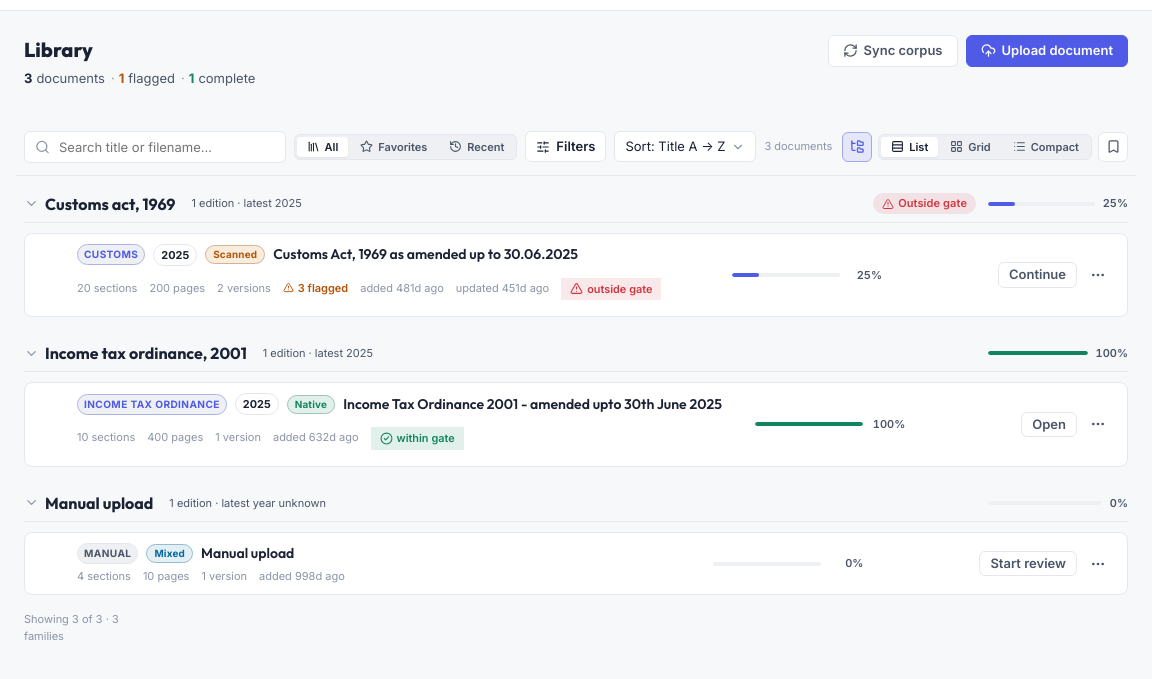
Test: Library page › filters via the panel: counts, URL, chips, clear-all
Expected: the text "3 documents" is shown, [764,138,832,155]
Click the button "Filters". click: (566, 147)
box: [525,131,606,162]
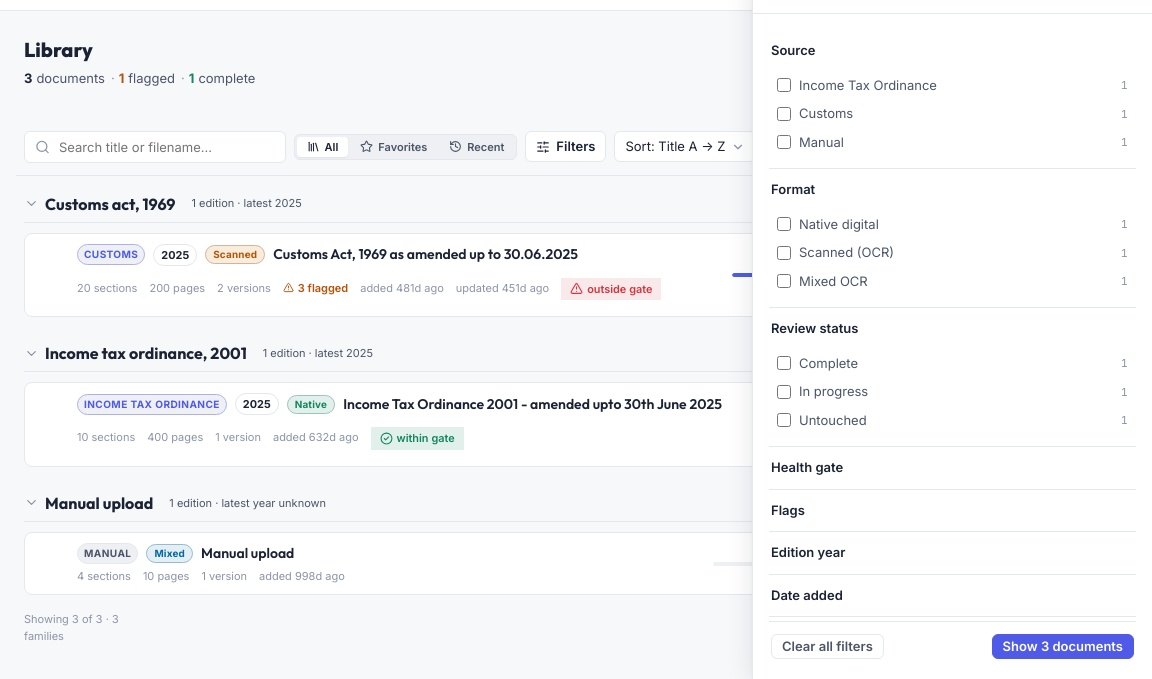
Click the checkbox labelled "Scanned (OCR) 1". click: (784, 253)
box: [777,246,791,260]
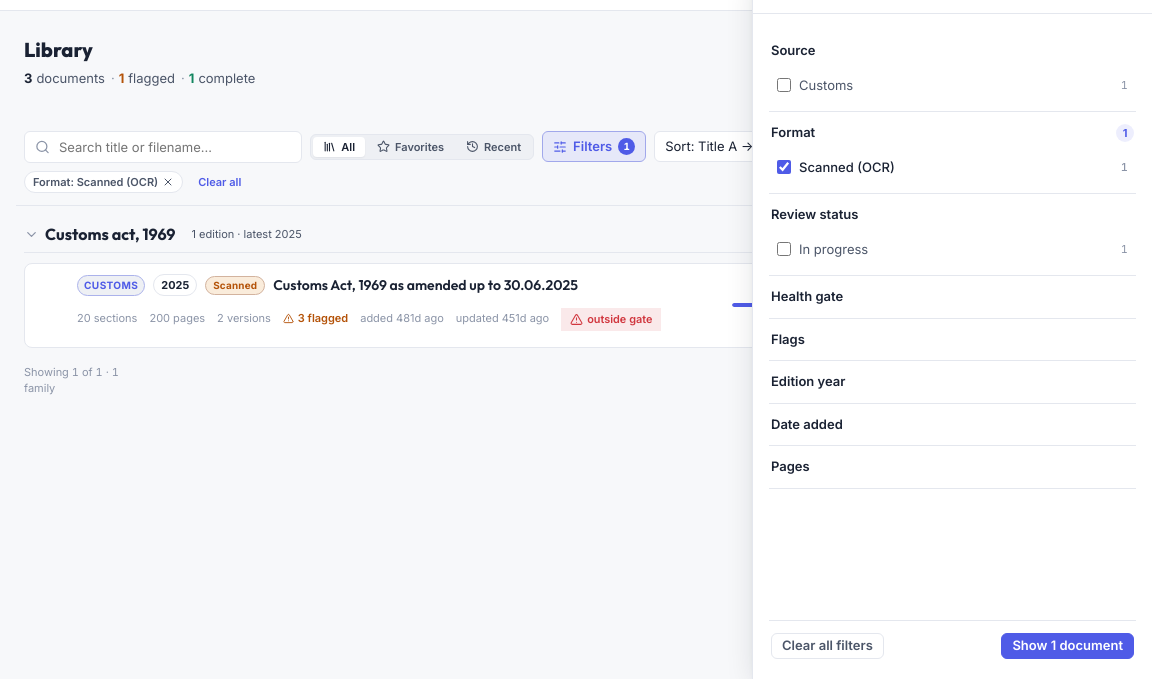
Expected: the text "1 of 3" is shown, [804,138,832,155]
Expected: the button "Format: Scanned (OCR)" is shown, [24,170,183,193]
Click the button "Clear all". click: (220, 182)
box: [189,170,250,193]
(page scrolled)
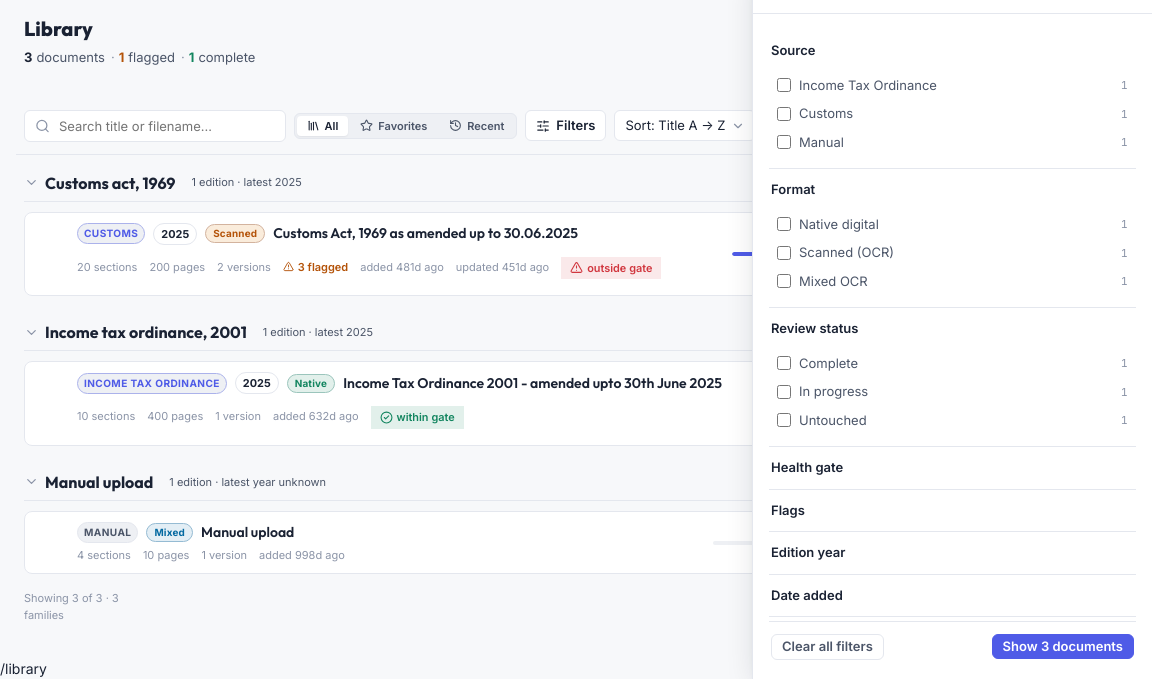
Expected: the text with test id "location" does not show "kind=", [0,660,47,677]
Expected: the text "3 documents" is shown, [764,117,832,134]
